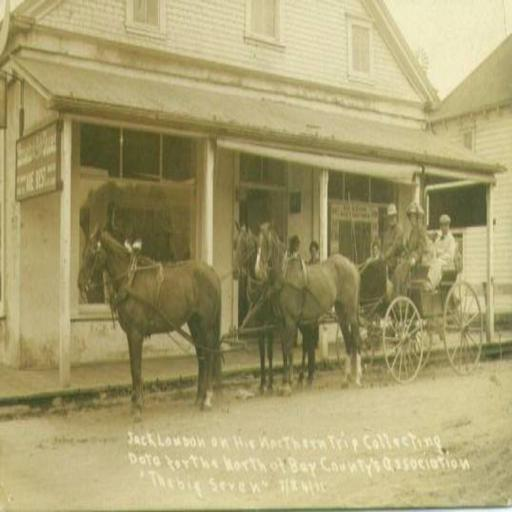Horse: (75, 222, 222, 422), (251, 218, 363, 400), (231, 219, 324, 399)
